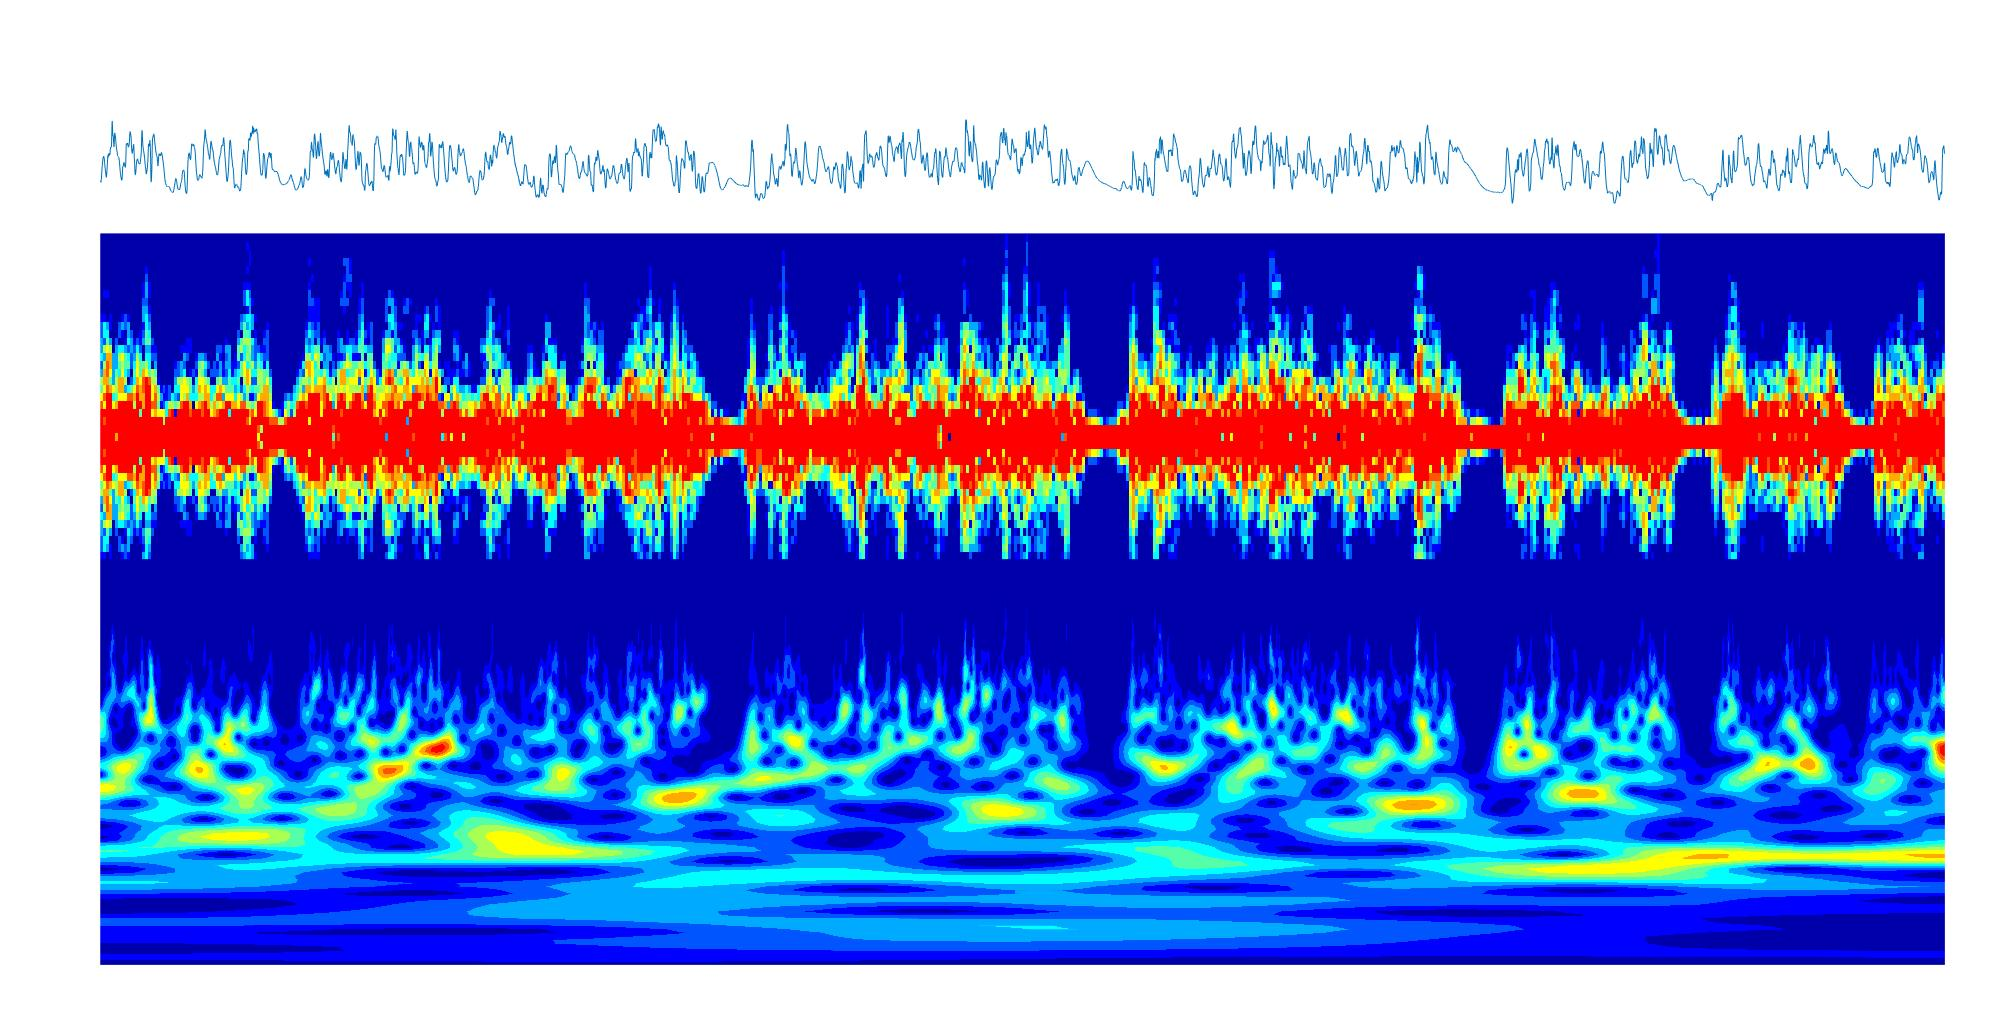TURBULENT: (1129, 232, 1456, 963), (835, 233, 1076, 965), (514, 235, 689, 967), (101, 235, 272, 967), (1501, 233, 1672, 963), (304, 232, 426, 967), (1717, 236, 1838, 962), (1875, 235, 1942, 965), (749, 236, 804, 963), (482, 235, 513, 967)
